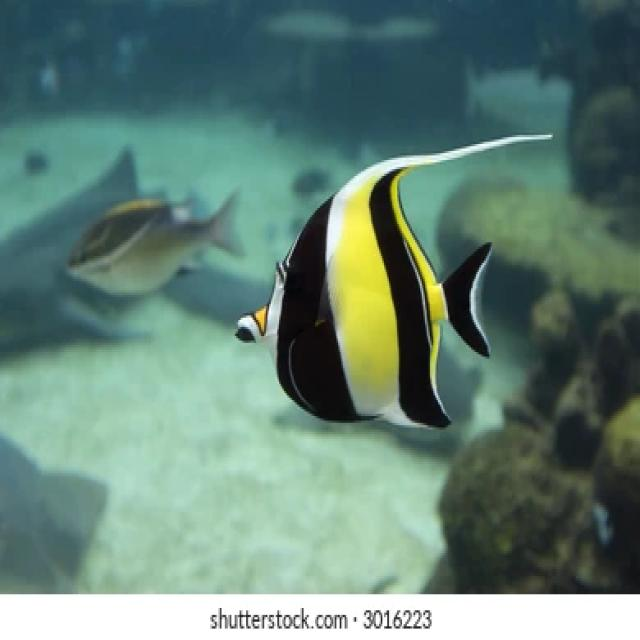MorishIdol: (231, 128, 553, 432)
